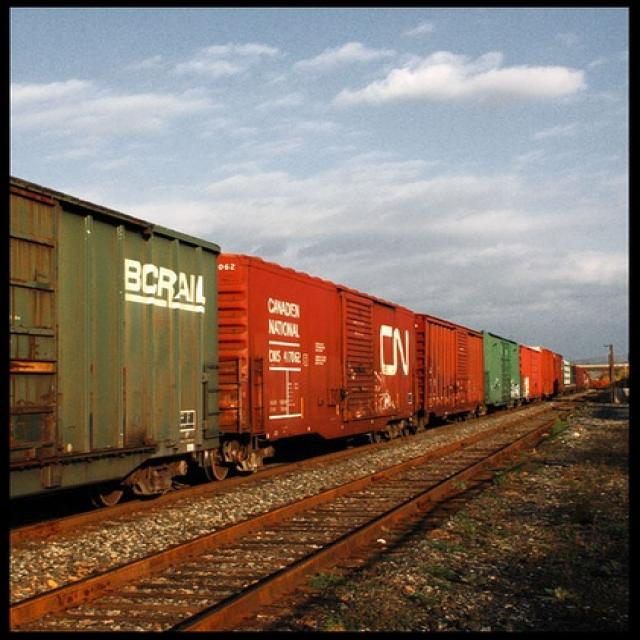train: (12, 172, 594, 509)
